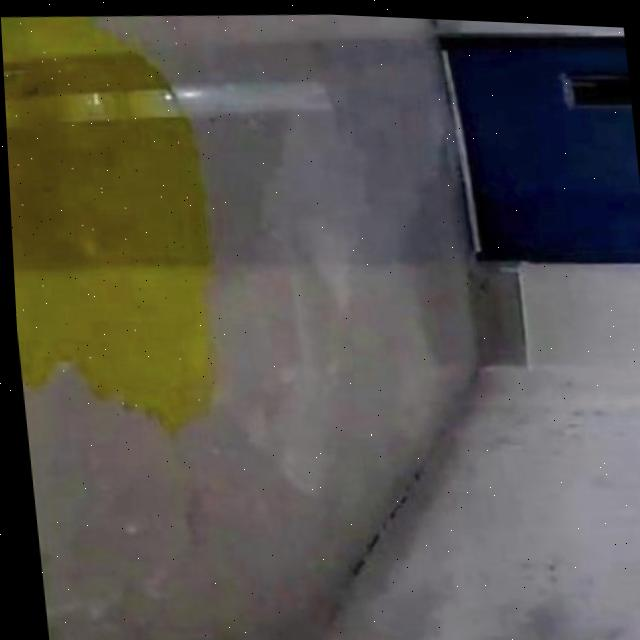spillage: (1, 15, 206, 416)
